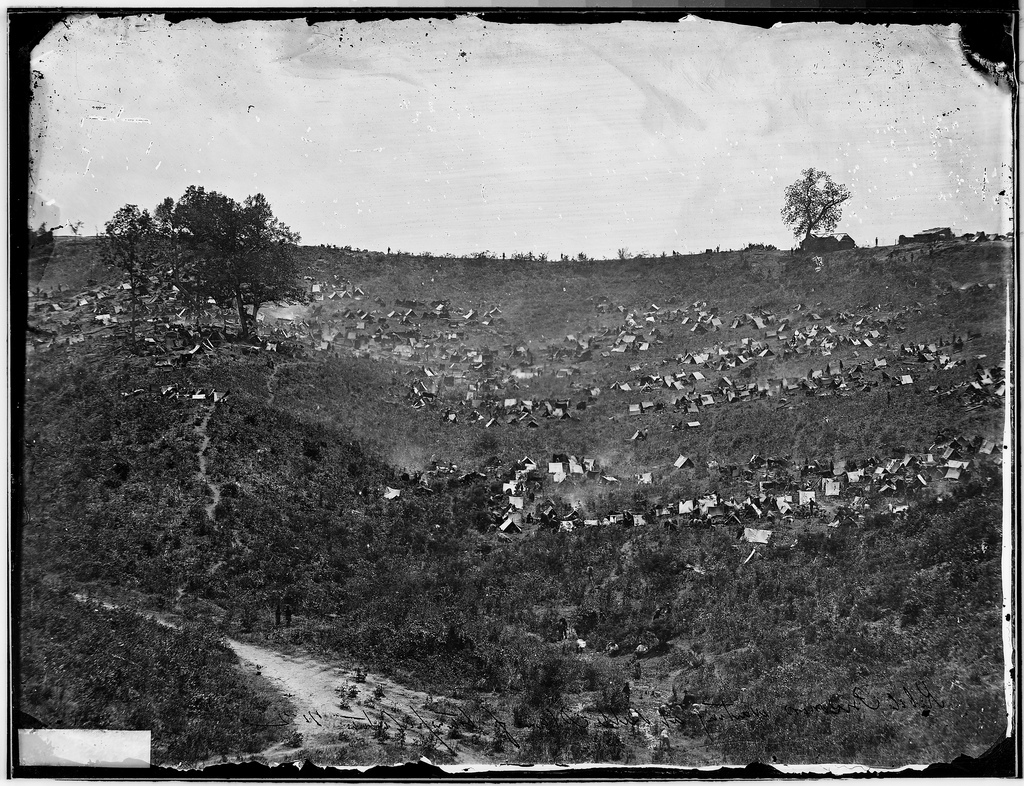Tree: (160, 177, 316, 347), (94, 204, 163, 324), (775, 142, 858, 241), (67, 219, 81, 240), (748, 240, 775, 250), (574, 248, 588, 260), (618, 248, 625, 260)
